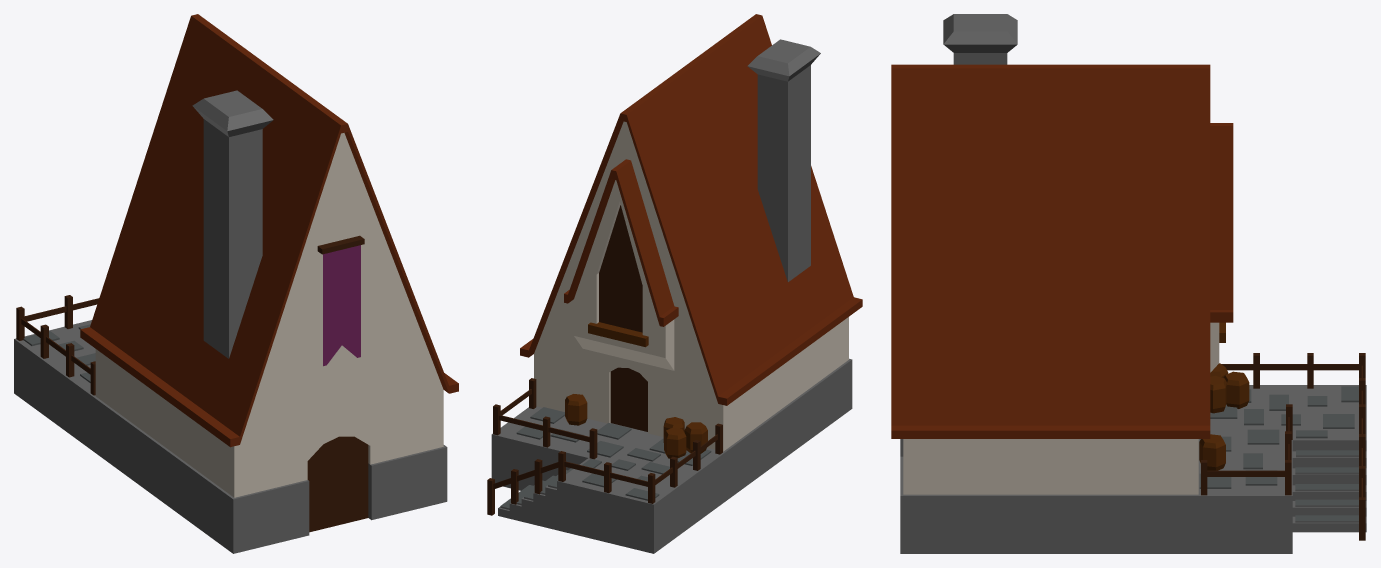
File: TavernV2.fbx
3 renders of one model, left to right at view 1: azimuth 30°, elevation 25°; view 2: azimuth 150°, elevation 25°; view 3: azimuth 270°, elevation 25°, orthographic. The views are drawn at different scales.
Visible parts, largest first — view 1: Plane.427; view 2: Plane.427; view 3: Plane.427.
Boxes of the visible parts, x1=… form: Plane.427: x1=14, y1=14, x2=458, y2=553; Plane.427: x1=487, y1=14, x2=862, y2=553; Plane.427: x1=891, y1=14, x2=1366, y2=553.
Size of the model in its own units: 94.32 by 164 by 160.
